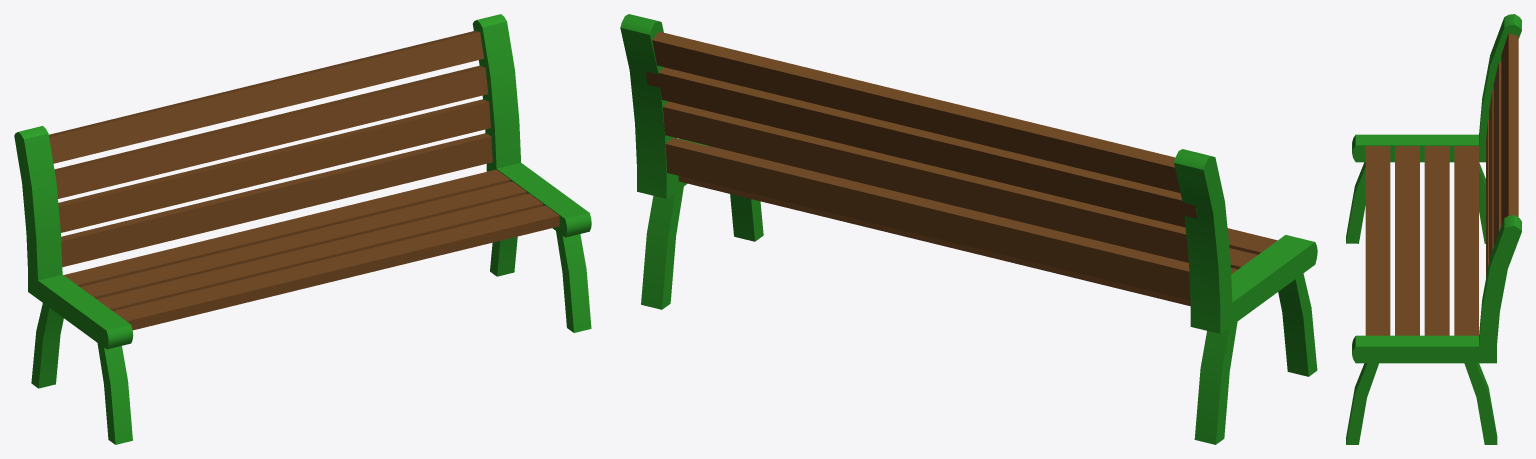
The model's file is Bench.fbx.
3 renders of one model, left to right at view 1: azimuth 30°, elevation 25°; view 2: azimuth 150°, elevation 25°; view 3: azimuth 270°, elevation 25°, orthographic. The views are drawn at different scales.
Visible parts, largest first — view 1: Bench; view 2: Bench; view 3: Bench.
Part boxes in pixels (x1,y1,x2,y2): Bench: (14,14,591,444); Bench: (620,14,1317,444); Bench: (1346,14,1521,444).
Bounding box in the file's own units: 407 × 198 × 143.
